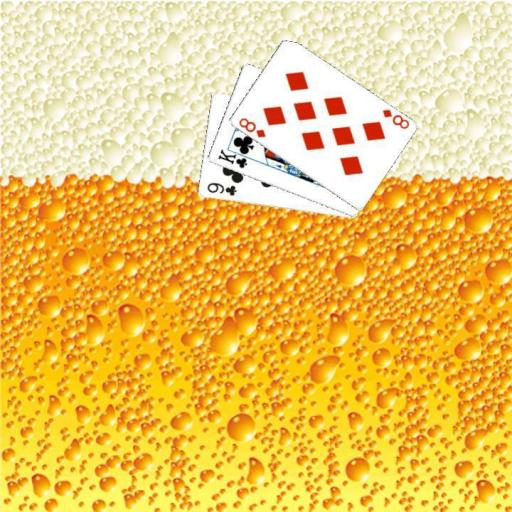card-corner: (215, 145, 254, 170), (236, 114, 268, 140), (379, 106, 410, 131), (204, 179, 238, 198)
